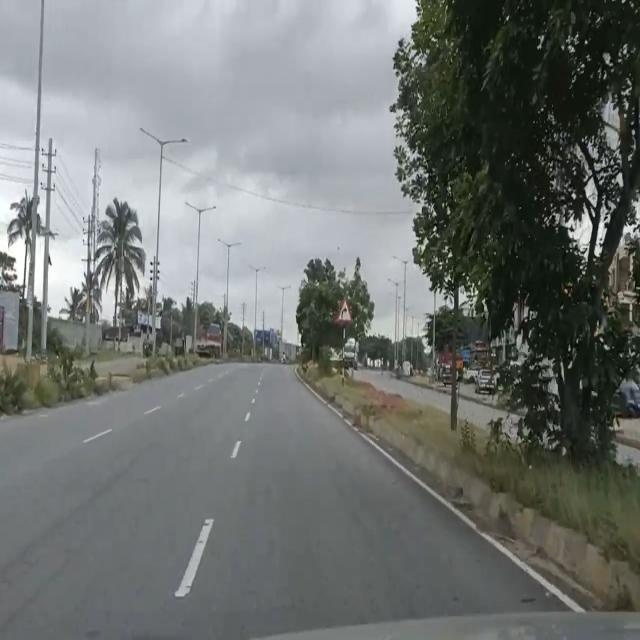bien_nguy_hiem: (336, 297, 354, 325)
